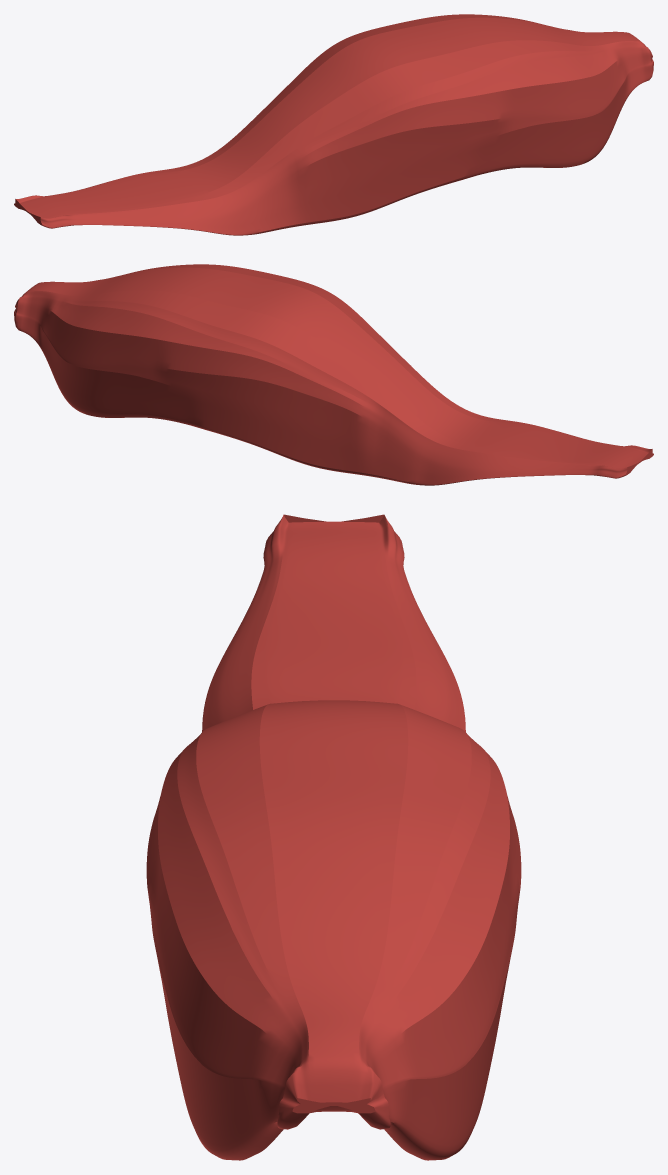
Rendered from adventure_1.glb.
3 views of the same model, one above another, from view 1: azimuth 30°, elevation 25°; view 2: azimuth 150°, elevation 25°; view 3: azimuth 270°, elevation 25° (orthographic). The views are drawn at different scales.
Visible parts, largest first — view 1: adventure_1; view 2: adventure_1; view 3: adventure_1.
Part boxes in pixels (left/top/right/bottom): adventure_1: left=14, top=14, right=653, bottom=235; adventure_1: left=14, top=264, right=653, bottom=485; adventure_1: left=146, top=514, right=521, bottom=1160.
Bounding box in the file's own units: 1.7 × 0.3518 × 0.4471.
